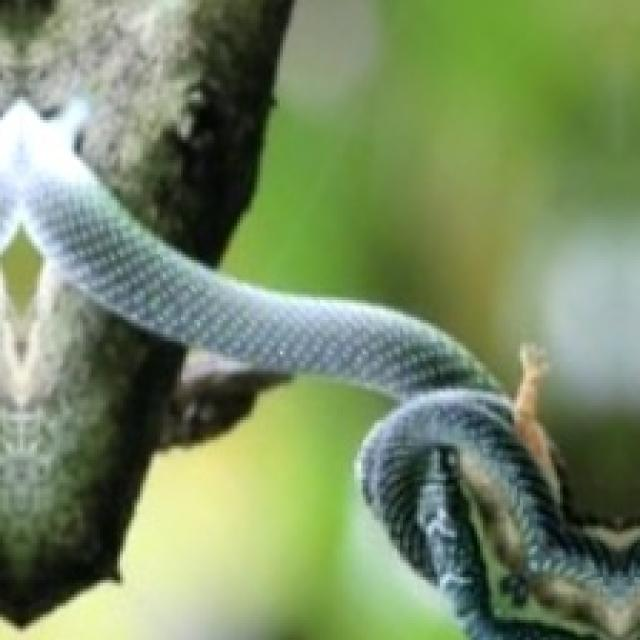paradise tree snake: (0, 100, 637, 637), (451, 449, 557, 626)
